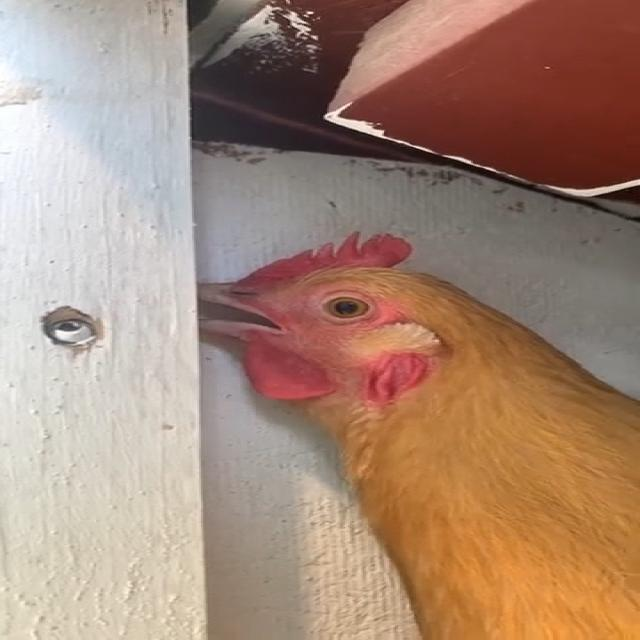Breathing: (196, 229, 638, 639)
